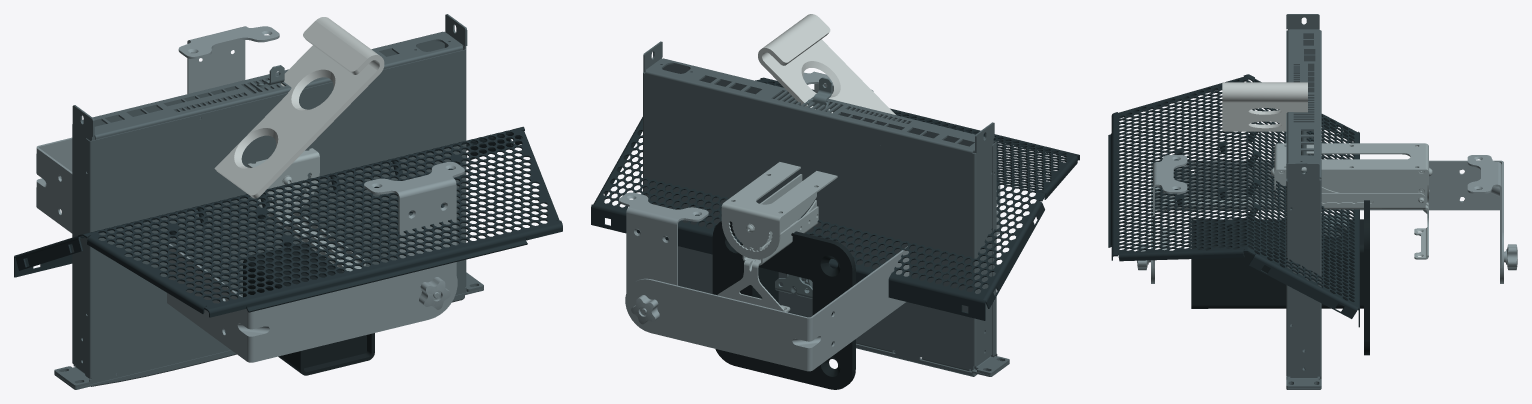
The model's file is metalcorex-step-capability-exploded-v2.glb.
3 views of the same model, side by side, from view 1: azimuth 30°, elevation 25°; view 2: azimuth 150°, elevation 25°; view 3: azimuth 270°, elevation 25° (orthographic). The views are drawn at different scales.
Parts seen in each view (by area): view 1: Amplifier_Chassis_Assembly_web_mesh (×4), Perforated_Steel_Grille_web_mesh, Speaker_Yoke_Bracket_web_mesh (×4), Steel_Locking_Latch_web_mesh, Injection_Molded_Pole_Cup_web_mesh (×2), Precision_Tilting_Bracket_web_mesh (×2); view 2: Amplifier_Chassis_Assembly_web_mesh (×4), Speaker_Yoke_Bracket_web_mesh (×3), Perforated_Steel_Grille_web_mesh, Injection_Molded_Pole_Cup_web_mesh (×2), Precision_Tilting_Bracket_web_mesh (×3), Steel_Locking_Latch_web_mesh, Wall_Mount_Hardware_Kit_web_mesh (×2); view 3: Perforated_Steel_Grille_web_mesh, Amplifier_Chassis_Assembly_web_mesh (×3), Precision_Tilting_Bracket_web_mesh (×3), Injection_Molded_Pole_Cup_web_mesh (×2), Speaker_Yoke_Bracket_web_mesh (×3), Steel_Locking_Latch_web_mesh.
Part boxes in pixels (x1,y1,x2,y2): Amplifier_Chassis_Assembly_web_mesh (×4): [54, 14, 483, 389]; Perforated_Steel_Grille_web_mesh: [14, 126, 562, 317]; Speaker_Yoke_Bracket_web_mesh (×4): [36, 26, 464, 362]; Steel_Locking_Latch_web_mesh: [214, 17, 384, 198]; Injection_Molded_Pole_Cup_web_mesh (×2): [243, 243, 374, 375]; Precision_Tilting_Bracket_web_mesh (×2): [247, 148, 365, 271]; Amplifier_Chassis_Assembly_web_mesh (×4): [643, 41, 1009, 376]; Speaker_Yoke_Bracket_web_mesh (×3): [619, 179, 1000, 371]; Perforated_Steel_Grille_web_mesh: [591, 77, 1079, 320]; Injection_Molded_Pole_Cup_web_mesh (×2): [712, 221, 855, 389]; Precision_Tilting_Bracket_web_mesh (×3): [717, 162, 837, 312]; Steel_Locking_Latch_web_mesh: [758, 14, 895, 114]; Wall_Mount_Hardware_Kit_web_mesh (×2): [775, 77, 832, 298]; Perforated_Steel_Grille_web_mesh: [1108, 74, 1359, 327]; Amplifier_Chassis_Assembly_web_mesh (×3): [1286, 14, 1321, 389]; Precision_Tilting_Bracket_web_mesh (×3): [1162, 143, 1428, 259]; Injection_Molded_Pole_Cup_web_mesh (×2): [1191, 200, 1369, 355]; Speaker_Yoke_Bracket_web_mesh (×3): [1151, 155, 1503, 283]; Steel_Locking_Latch_web_mesh: [1222, 82, 1307, 131].
Size of the model in its own units: 2.7 by 1.92 by 2.64.
